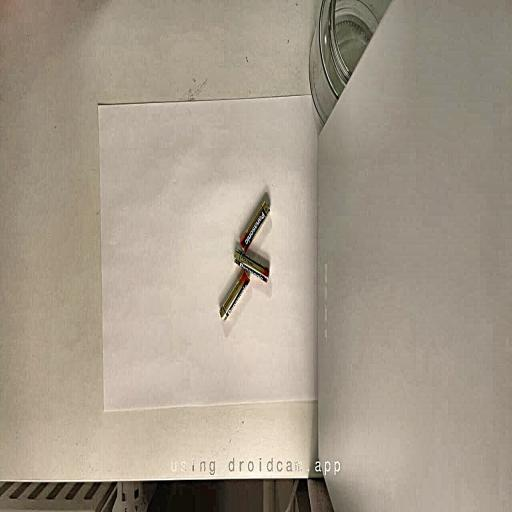PanasonicAAA: (240, 201, 270, 252), (220, 271, 250, 321), (234, 249, 269, 282)
